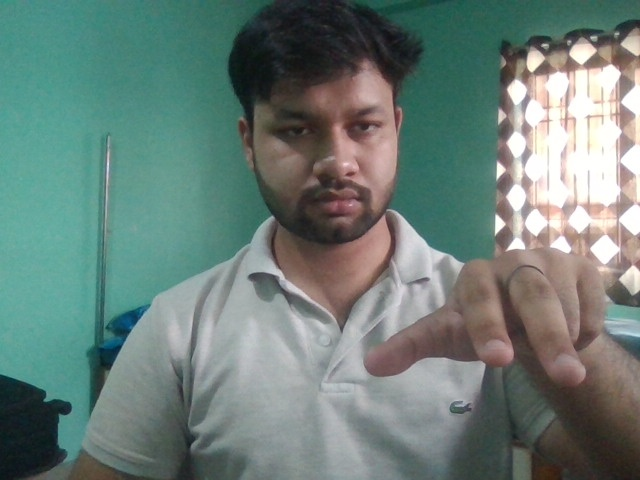No: (361, 247, 616, 395)
